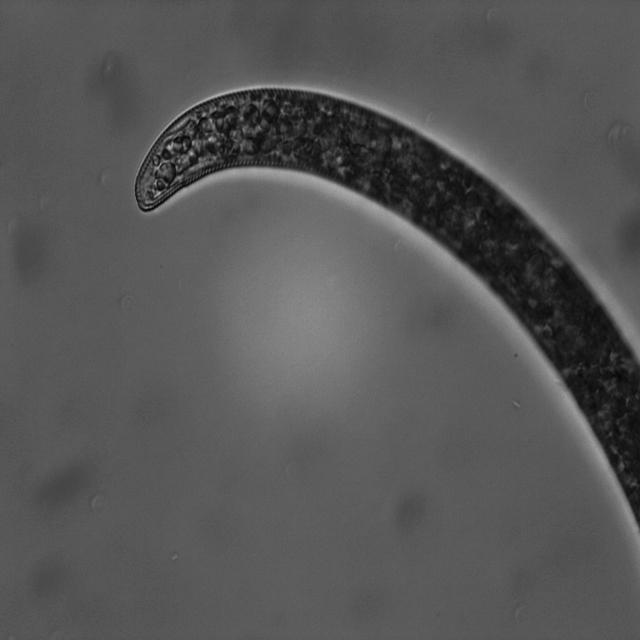Helicotylenchus: (128, 86, 640, 542)
